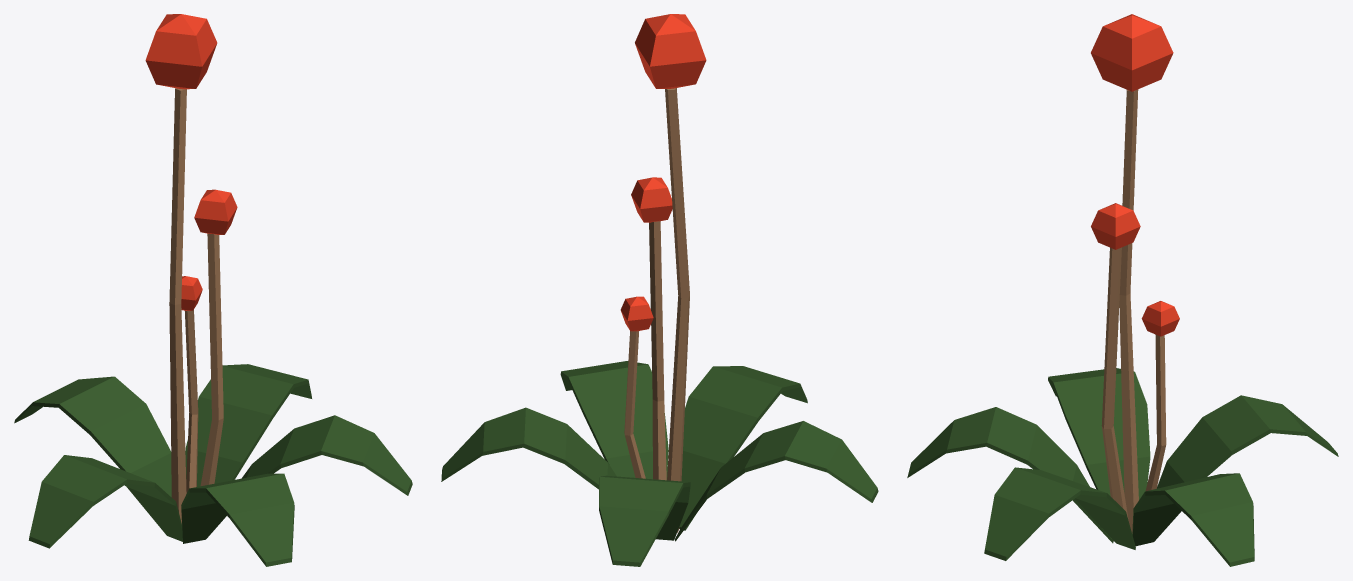
File: Plant_02.glb
The picture shows the model from 3 angles, left to right: view 1: azimuth 30°, elevation 25°; view 2: azimuth 150°, elevation 25°; view 3: azimuth 270°, elevation 25°; orthographic projection.
Visible parts, largest first — view 1: Plant_02; view 2: Plant_02; view 3: Plant_02.
Part boxes in pixels (<box>): Plant_02: <box>14,14,412,566</box>; Plant_02: <box>441,14,878,566</box>; Plant_02: <box>907,14,1338,566</box>.
Size of the model in its own units: 0.8824 by 1.23 by 0.9247.
1 material, 1 textured.
